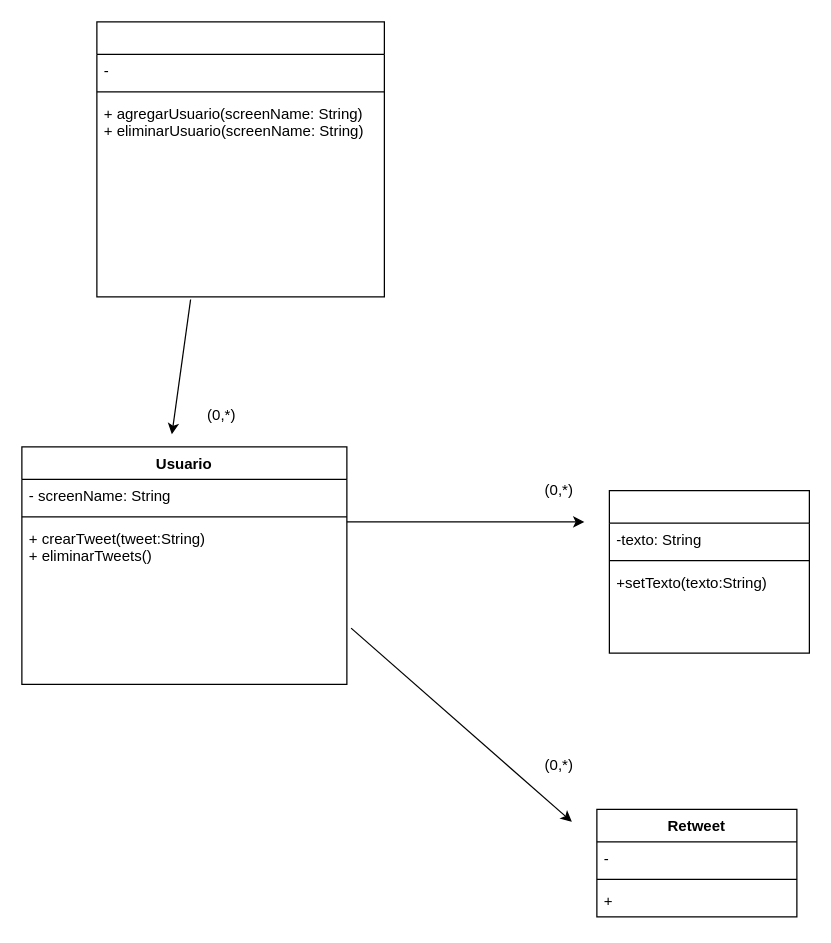
The diagram is 831 pixels wide and 943 high, and some of its shapes have lost their labels. The box of each missing label's shape, as (x1, y1, x2, y2) in pixels:
Tweet: (608, 489, 809, 653)
Twitter: (96, 21, 384, 297)
